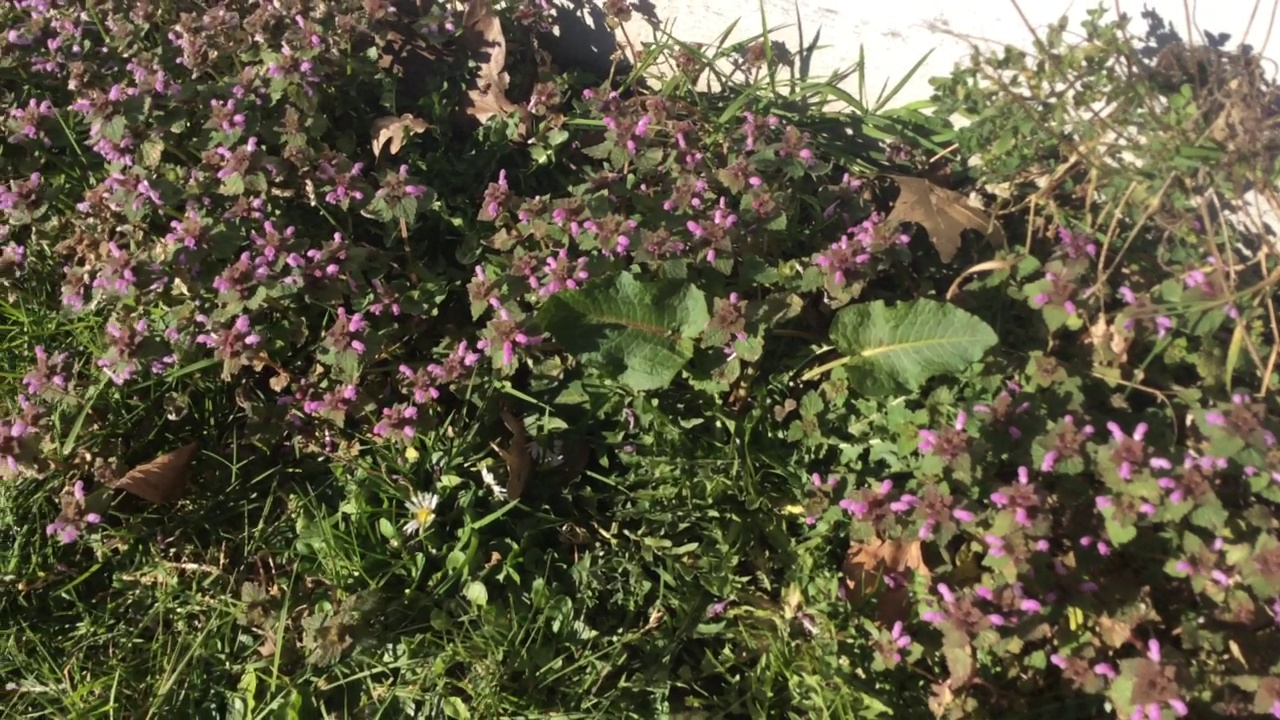rumex: (519, 274, 1000, 392)
